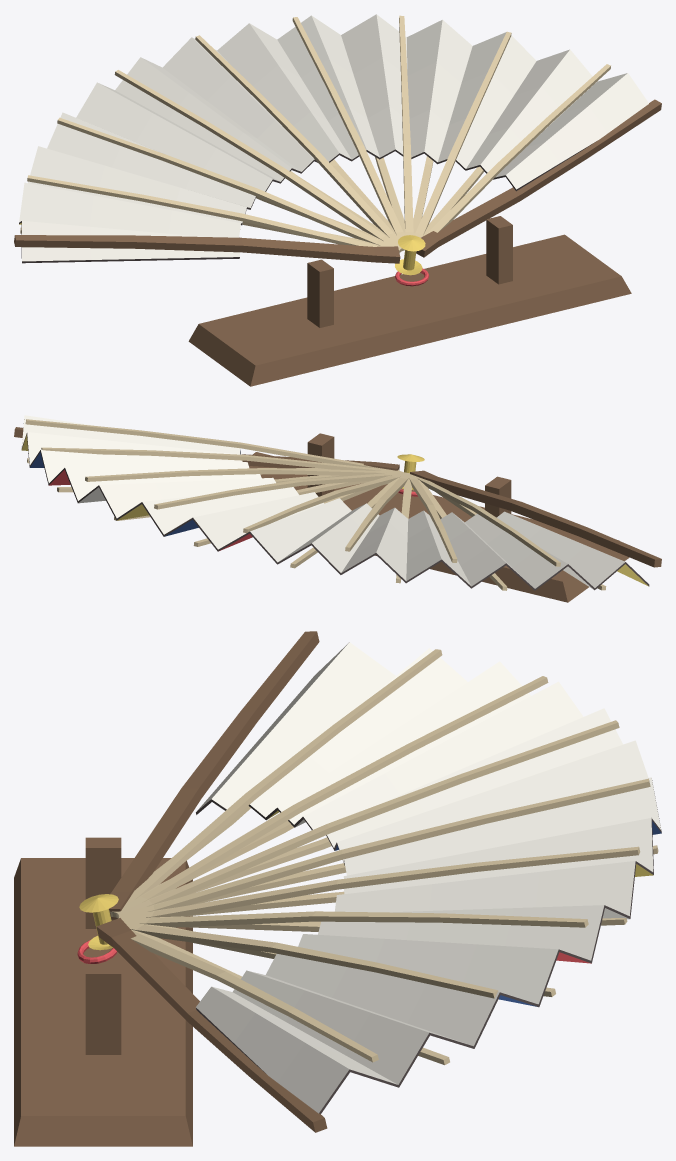
File: craft_sensu.glb
3 views of the same model, one above another, from view 1: azimuth 30°, elevation 25°; view 2: azimuth 150°, elevation 25°; view 3: azimuth 270°, elevation 25° (orthographic). The views are drawn at different scales.
Visible parts, largest first — view 1: Sensu_Leaf_Paper, Sensu_DisplayStand, Sensu_GuardRib_17, Sensu_GuardRib_0, Sensu_InnerRib_13, Sensu_InnerRib_15, Sensu_InnerRib_11, Sensu_InnerRib_9, Sensu_InnerRib_7, Sensu_InnerRib_1, Sensu_InnerRib_3, Sensu_InnerRib_5 (+4 smaller); view 2: Sensu_Leaf_Paper, Sensu_DisplayStand, Sensu_GuardRib_17, Sensu_InnerRib_1, Sensu_InnerRib_3, Sensu_InnerRib_5, Sensu_InnerRib_7, Sensu_InnerRib_9, Sensu_InnerRib_15, Sensu_InnerRib_13, Sensu_InnerRib_11, Sensu_GuardRib_0 (+6 smaller); view 3: Sensu_Leaf_Paper, Sensu_DisplayStand, Sensu_GuardRib_17, Sensu_GuardRib_0, Sensu_InnerRib_9, Sensu_InnerRib_11, Sensu_InnerRib_7, Sensu_InnerRib_13, Sensu_InnerRib_5, Sensu_InnerRib_15, Sensu_InnerRib_3, Sensu_InnerRib_1 (+6 smaller).
Boxes of the visible parts, left/top/right/bottom form: Sensu_Leaf_Paper: left=19, top=14, right=648, bottom=263; Sensu_DisplayStand: left=188, top=216, right=631, bottom=386; Sensu_GuardRib_17: left=14, top=235, right=400, bottom=263; Sensu_GuardRib_0: left=416, top=99, right=661, bottom=257; Sensu_InnerRib_13: left=57, top=117, right=400, bottom=252; Sensu_InnerRib_15: left=27, top=175, right=383, bottom=246; Sensu_InnerRib_11: left=114, top=70, right=401, bottom=251; Sensu_InnerRib_9: left=195, top=35, right=404, bottom=250; Sensu_InnerRib_7: left=292, top=17, right=405, bottom=238; Sensu_InnerRib_1: left=416, top=64, right=610, bottom=251; Sensu_InnerRib_3: left=414, top=31, right=511, bottom=237; Sensu_InnerRib_5: left=399, top=15, right=413, bottom=235; Sensu_Leaf_Paper: left=21, top=415, right=649, bottom=590; Sensu_DisplayStand: left=249, top=433, right=629, bottom=602; Sensu_GuardRib_17: left=410, top=470, right=661, bottom=567; Sensu_InnerRib_1: left=25, top=419, right=379, bottom=468; Sensu_InnerRib_3: left=41, top=447, right=398, bottom=470; Sensu_InnerRib_5: left=85, top=468, right=400, bottom=481; Sensu_InnerRib_7: left=154, top=471, right=402, bottom=509; Sensu_InnerRib_9: left=243, top=472, right=405, bottom=533; Sensu_InnerRib_15: left=415, top=476, right=560, bottom=566; Sensu_InnerRib_13: left=409, top=473, right=457, bottom=562; Sensu_InnerRib_11: left=345, top=472, right=409, bottom=551; Sensu_GuardRib_0: left=14, top=427, right=399, bottom=470; Sensu_Leaf_Paper: left=196, top=642, right=661, bottom=1113; Sensu_DisplayStand: left=14, top=837, right=192, bottom=1146; Sensu_GuardRib_17: left=109, top=631, right=319, bottom=919; Sensu_GuardRib_0: left=96, top=918, right=327, bottom=1132; Sensu_InnerRib_9: left=119, top=778, right=650, bottom=916; Sensu_InnerRib_11: left=117, top=720, right=619, bottom=917; Sensu_InnerRib_7: left=119, top=846, right=640, bottom=918; Sensu_InnerRib_13: left=115, top=676, right=548, bottom=917; Sensu_InnerRib_5: left=121, top=911, right=588, bottom=927; Sensu_InnerRib_15: left=112, top=649, right=442, bottom=917; Sensu_InnerRib_3: left=124, top=922, right=498, bottom=998; Sensu_InnerRib_1: left=130, top=930, right=378, bottom=1062.
Bounding box in the file's own units: 1.95 × 0.4286 × 1.17.
